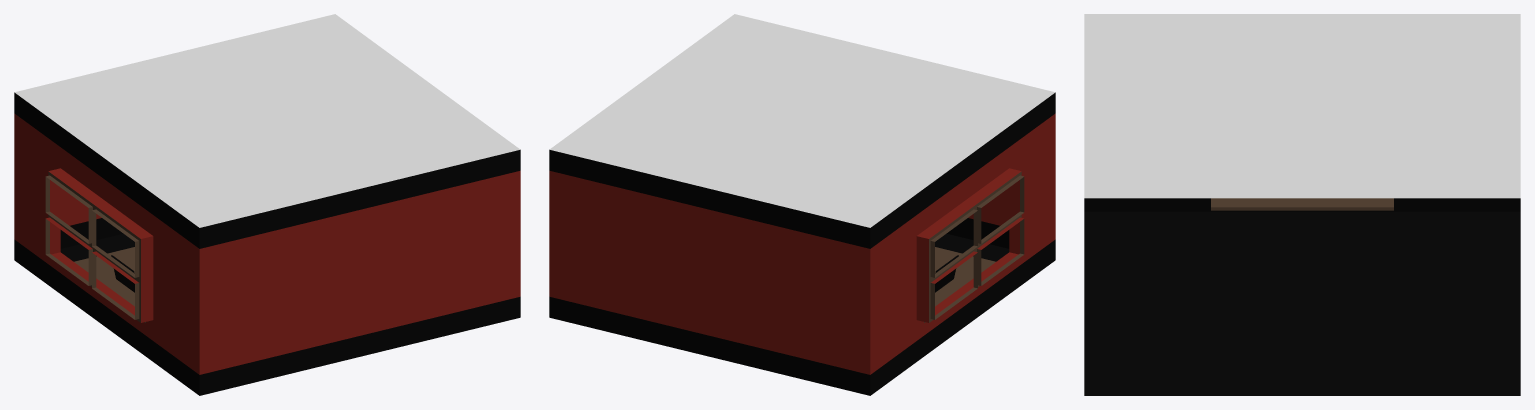
The model's file is room.glb.
The picture shows the model from 3 angles, left to right: view 1: azimuth 30°, elevation 25°; view 2: azimuth 150°, elevation 25°; view 3: azimuth 270°, elevation 25°; orthographic projection. The views are drawn at different scales.
Visible parts, largest first — view 1: Cube, Cube.001; view 2: Cube, Cube.001; view 3: Cube, Cube.001.
Boxes of the visible parts, x1,y1,x2,y2 form: Cube: (14, 14, 520, 395); Cube.001: (74, 247, 145, 322); Cube: (549, 14, 1055, 395); Cube.001: (924, 247, 995, 322); Cube: (1084, 14, 1520, 395); Cube.001: (1211, 198, 1393, 210).
Size of the model in its own units: 10.52 by 5 by 10.
